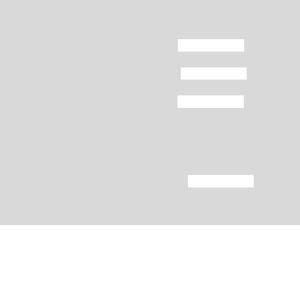square: (187, 172, 255, 190), (179, 65, 249, 82), (177, 37, 246, 54), (177, 93, 246, 110)
